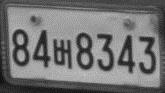3: (95, 32, 114, 70), (138, 35, 156, 74)
4: (31, 28, 51, 67), (116, 34, 135, 72)
8: (75, 31, 93, 70), (11, 28, 29, 66)
버: (52, 38, 72, 69)
